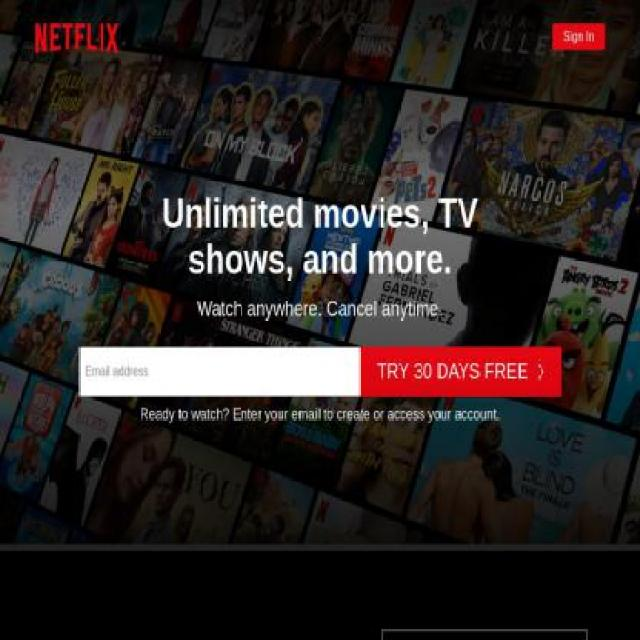button: (360, 346, 562, 397), (552, 23, 605, 51)
field: (79, 346, 361, 397)
